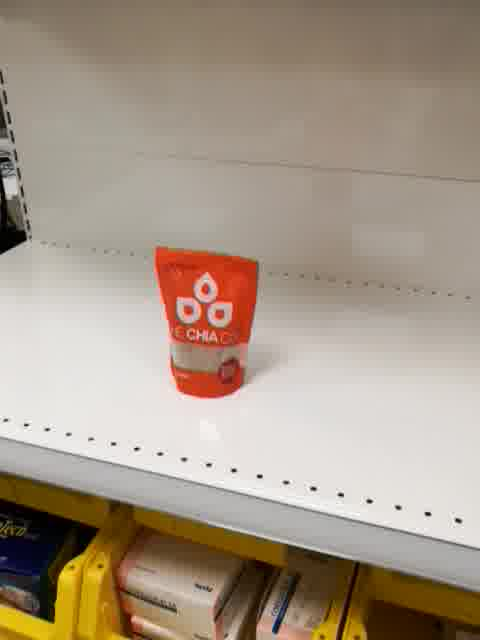whitechia: (152, 243, 264, 400)
